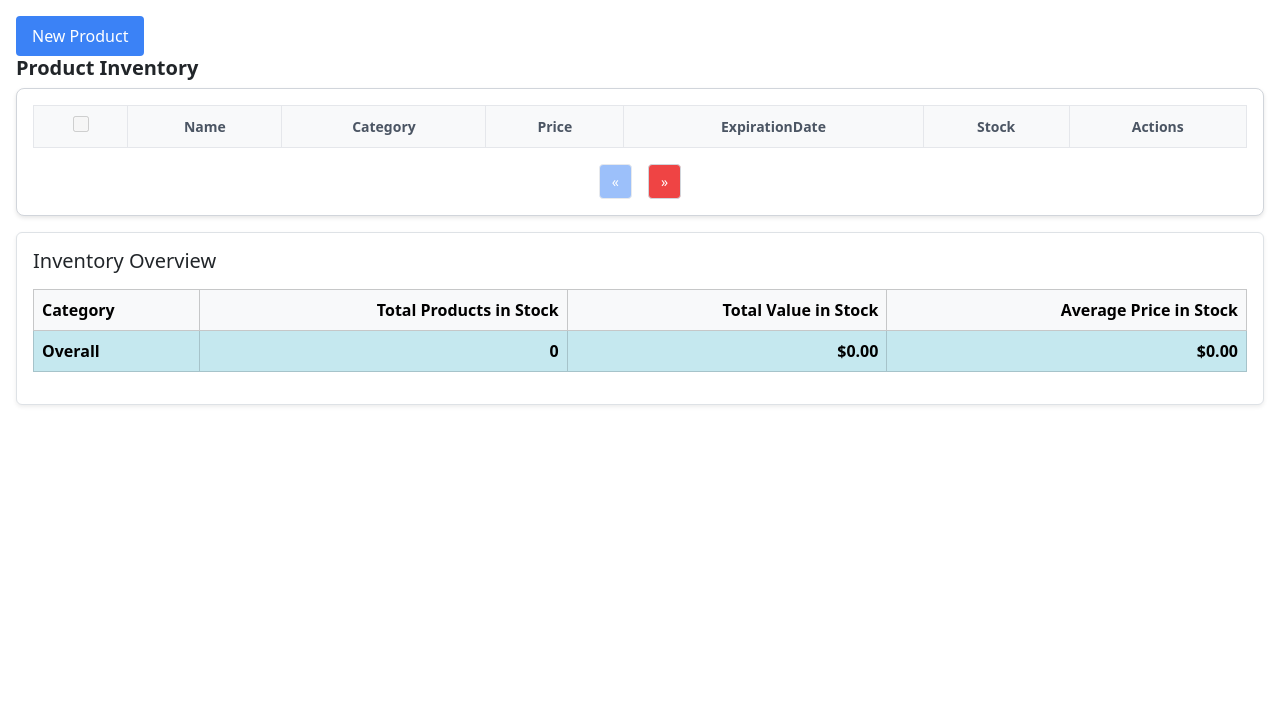
Scenario: InventoryPage Component › opens modal when clicking 'New Product'
The image size is (1280, 720).
Click the button "New Product". click: (80, 36)
box: x1=16 y1=16 x2=144 y2=56
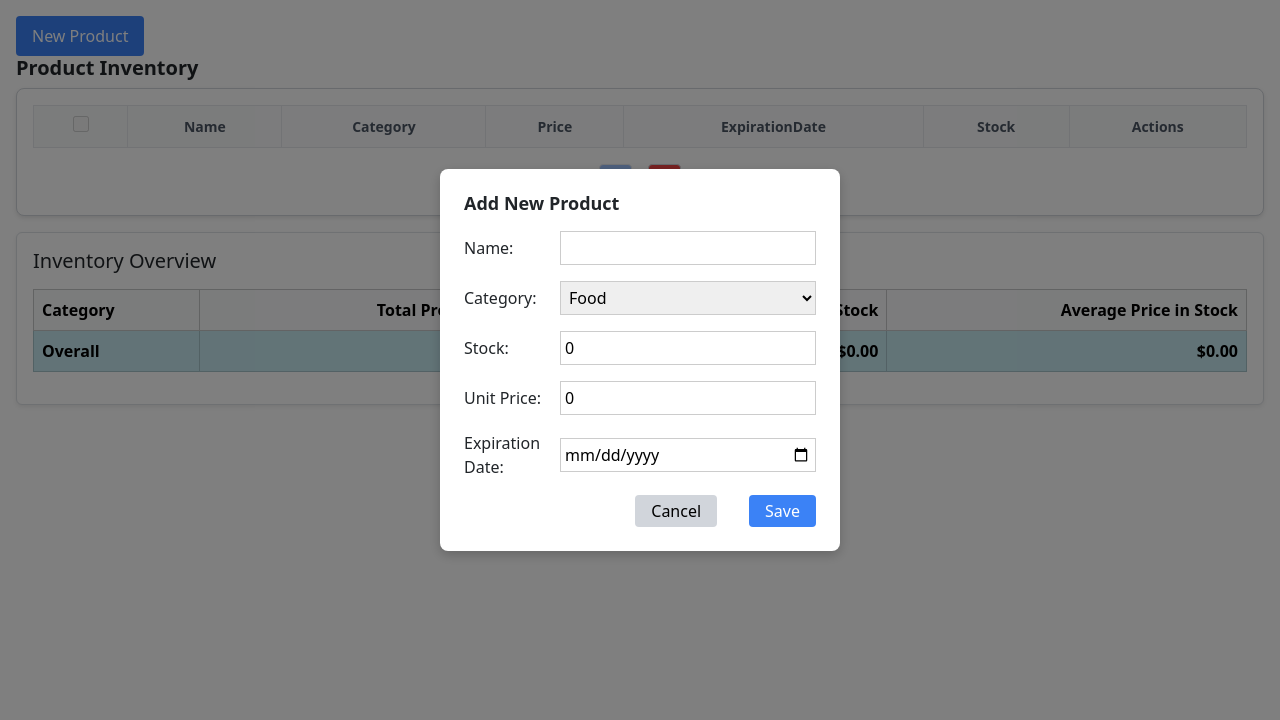
expect the heading "Add New Product" is shown: met, box x1=464 y1=191 x2=619 y2=215
